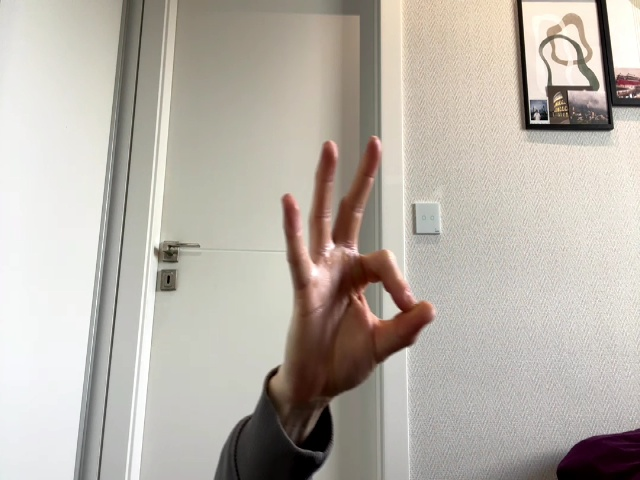O: (283, 136, 435, 390)
